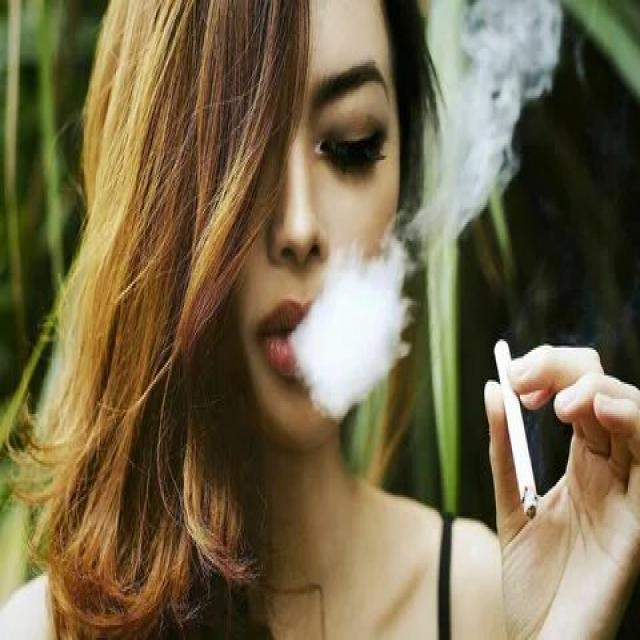smoke: (492, 337, 541, 529)
